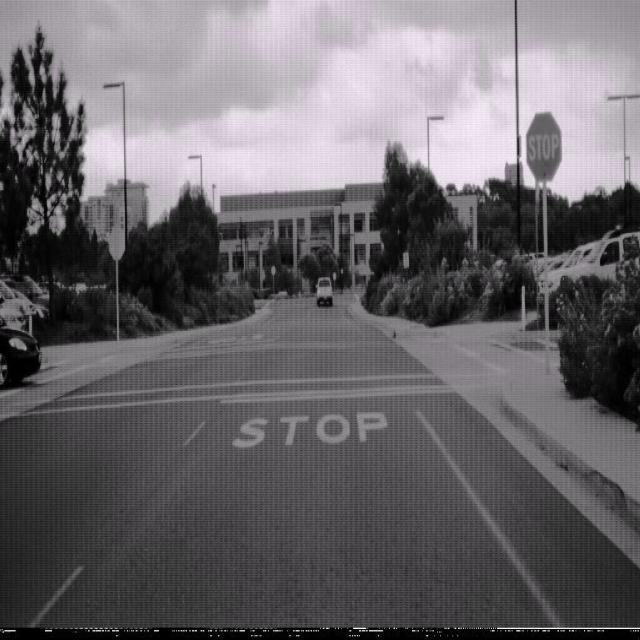stop: (525, 109, 563, 183)
